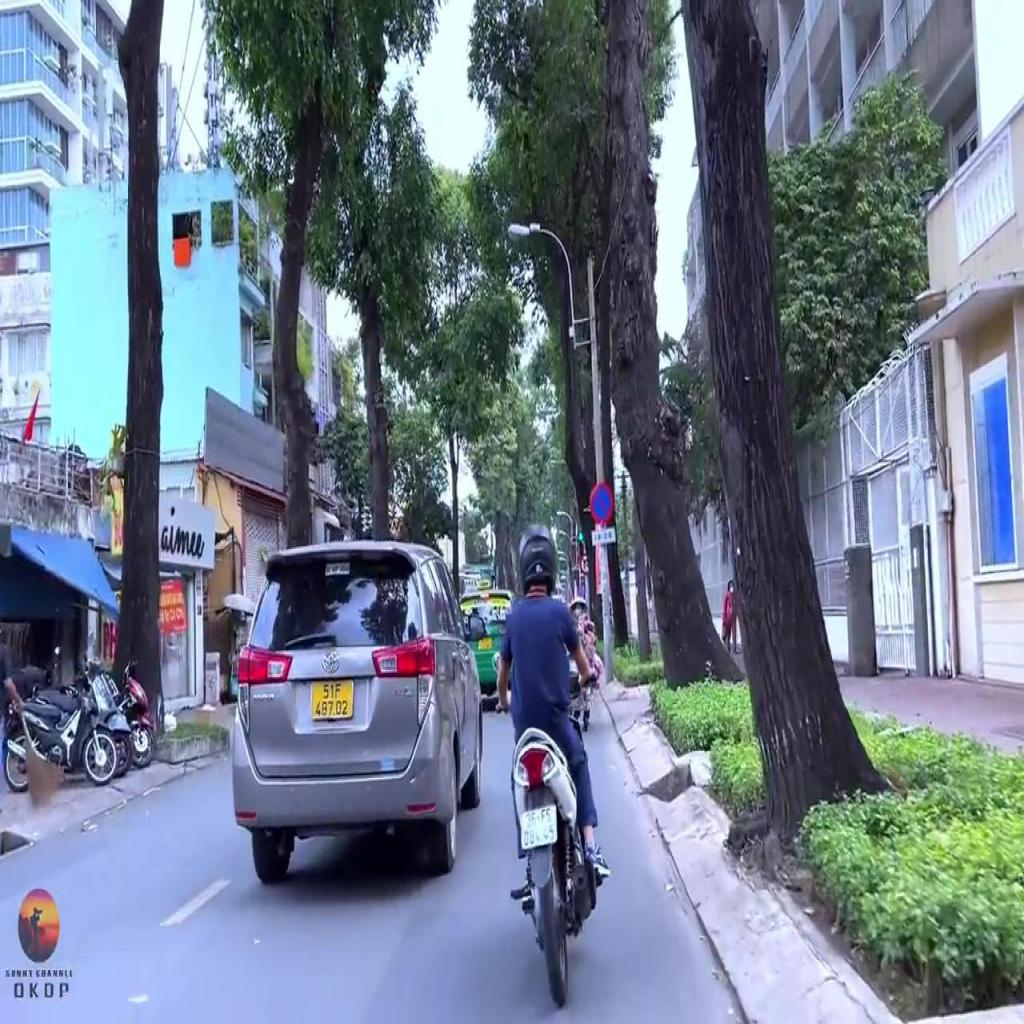cam_do_xe: (590, 482, 615, 526)
cam_re_phai: (580, 555, 590, 576)
khac: (591, 528, 615, 546)
